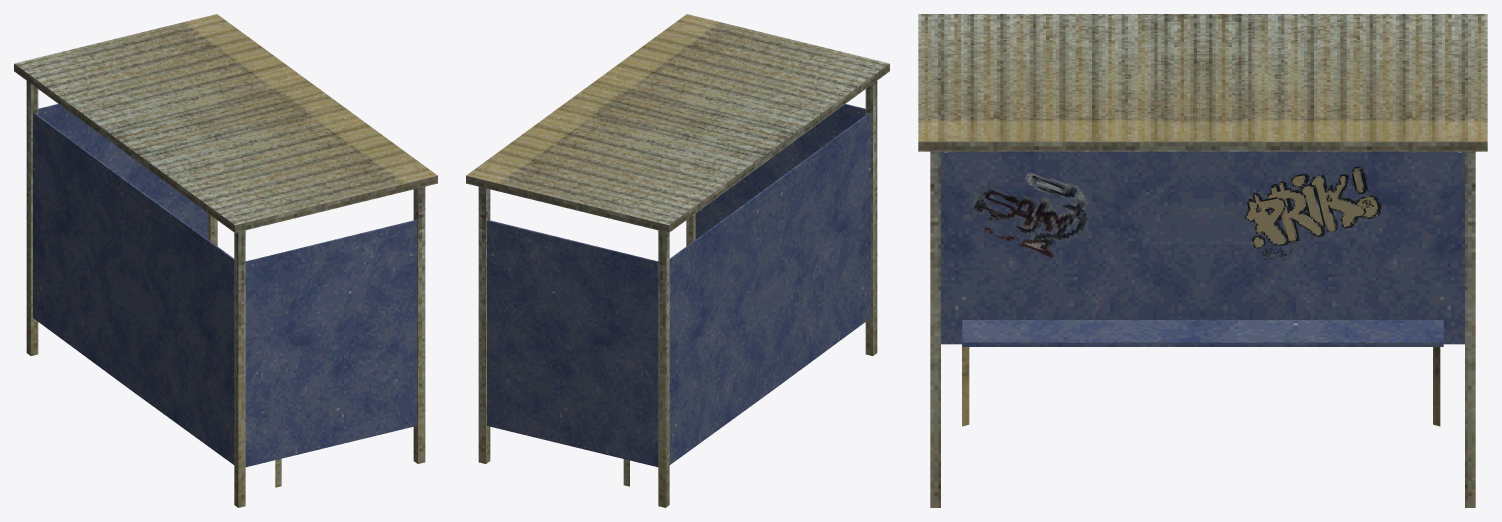
The model's file is busstop_graffiti.glb.
3 renders of one model, left to right at view 1: azimuth 30°, elevation 25°; view 2: azimuth 150°, elevation 25°; view 3: azimuth 270°, elevation 25°, orthographic. The views are drawn at different scales.
Parts seen in each view (by area): view 1: busstop_graffiti; view 2: busstop_graffiti; view 3: busstop_graffiti.
Part boxes in pixels (bbox=[...]): busstop_graffiti: bbox=[14, 14, 437, 507]; busstop_graffiti: bbox=[466, 14, 889, 507]; busstop_graffiti: bbox=[918, 14, 1487, 507].
Bounding box in the file's own units: 2.26 × 3.08 × 4.26.
1 material, 1 textured.
